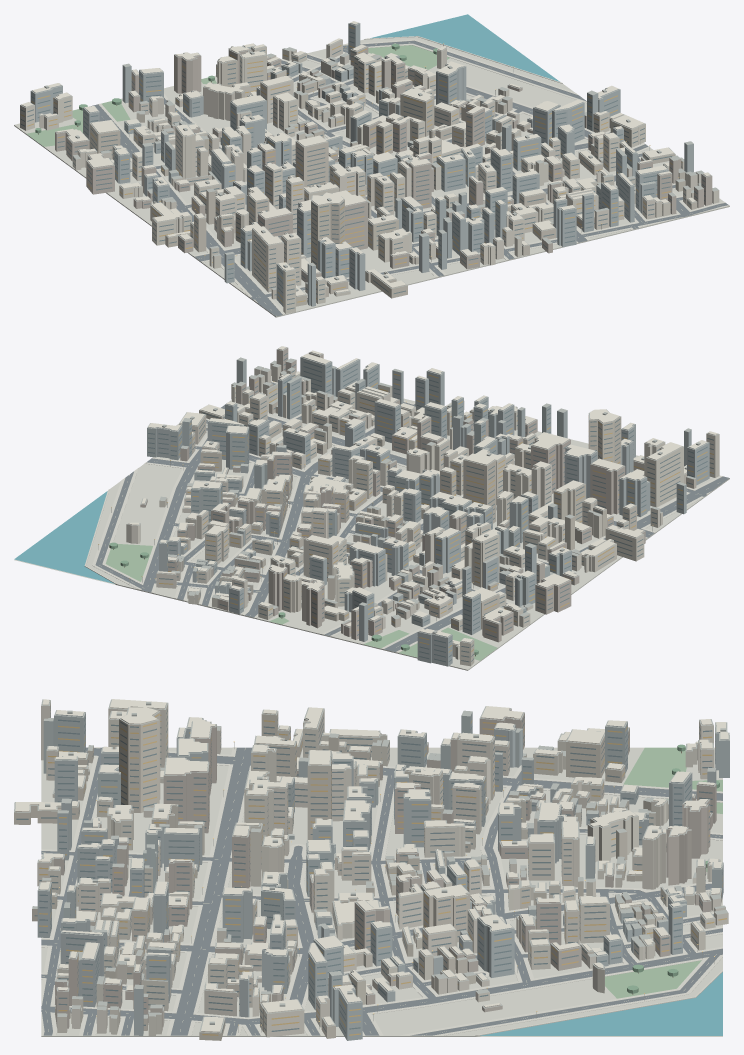
3 renders of one model, top to bottom at view 1: azimuth 30°, elevation 25°; view 2: azimuth 150°, elevation 25°; view 3: azimuth 270°, elevation 25°, orthographic. The views are drawn at different scales.
Visible parts, largest first — view 1: city; view 2: city; view 3: city.
Part boxes in pixels (x1,y1,x2,y2): city: (14,14,729,317); city: (14,346,729,670); city: (14,699,729,1040).
Size of the model in its own units: 527 by 74.25 by 525.
